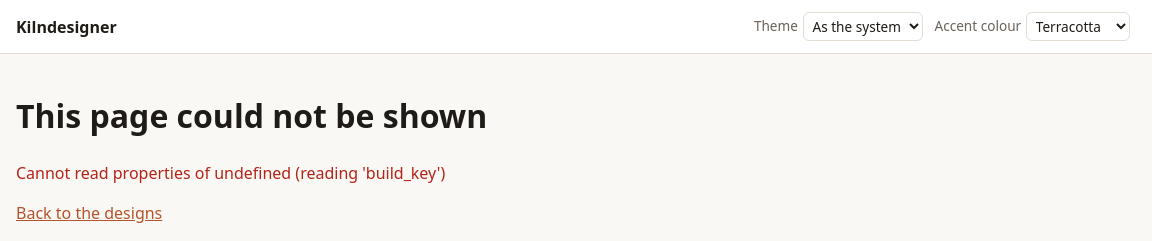
the top bar › stays above a page that failed, which says what happened and leads back
The image size is (1152, 241).
Expected: the element that starts with "This page could not be shown" is shown, [16,94,487,224]
Expected: the heading "This page could not be shown" is shown, [16,94,487,137]
What coordinates should you click on to do the following:
click the link "Back to the designs"
I would click on:
 (89, 213)
Its box is [16,202,162,224].
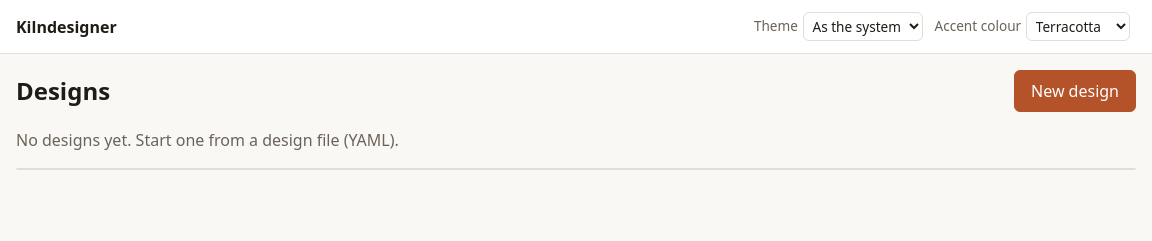
Result: the text "No designs yet. Start one from a design file (YAML)." is shown at [16,129,399,151]
